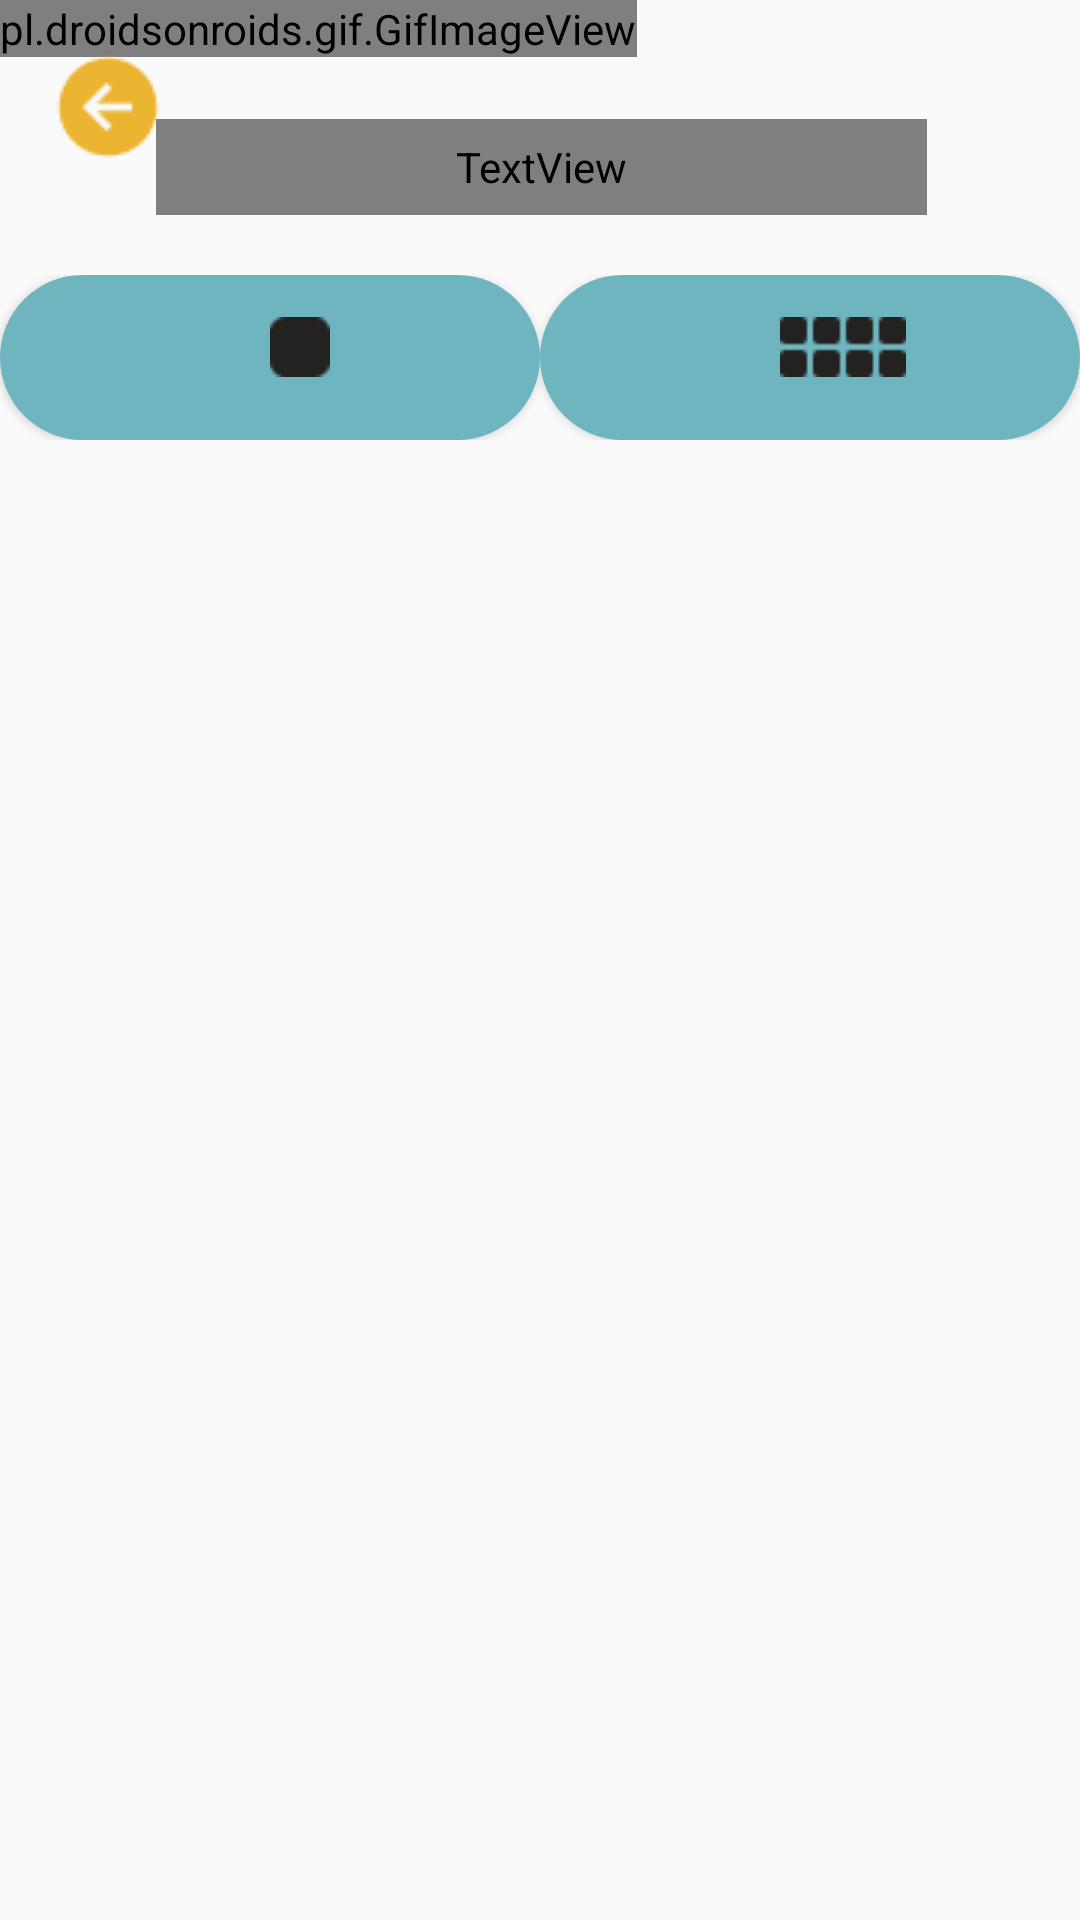

Point at icon controls on the screen. Image size 1080x1920, points as [x,y].
keluar: [108,107]
